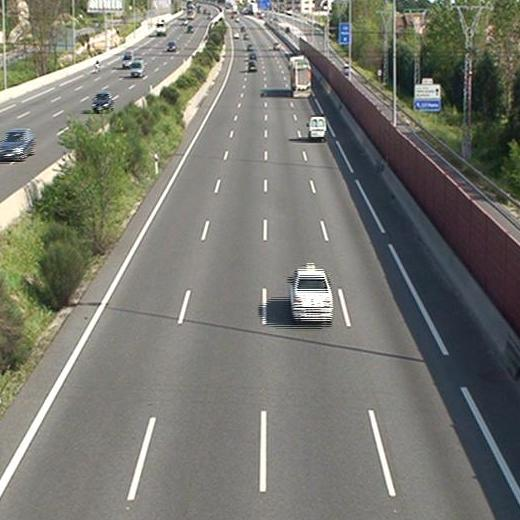car: (289, 270, 332, 321), (247, 61, 257, 71)
tank-truck: (289, 56, 310, 97)
van: (308, 116, 326, 139)
